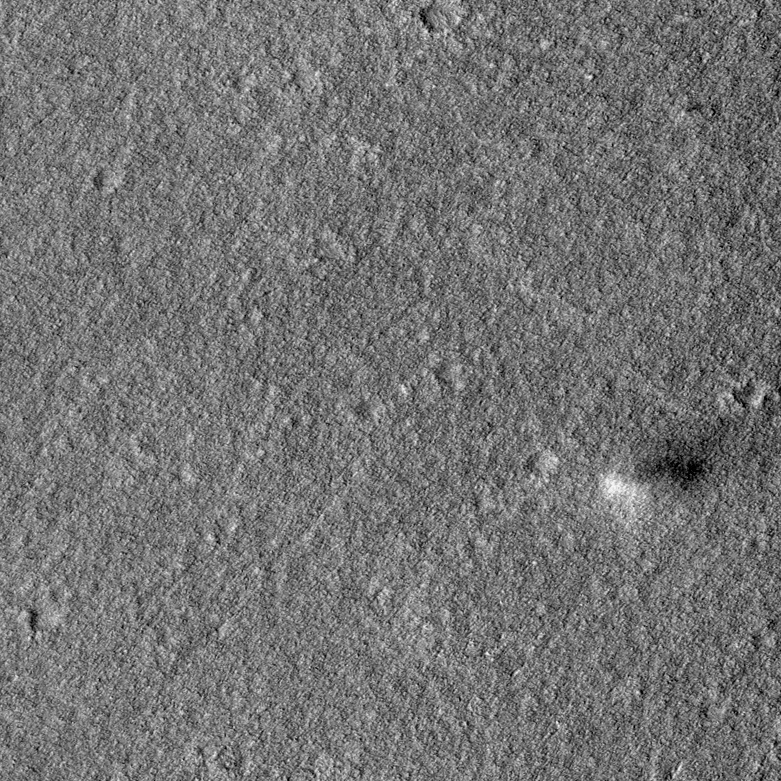dust_devil: (595, 414, 746, 519)
